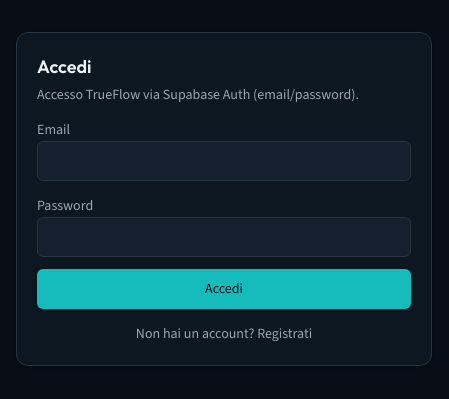
Test: AuthPage › Login invalido: messaggio errore visibile
Type "test@example.com" into the field labelled "Email" at (224,161), box top-left (37, 141), bottom-right (411, 181)
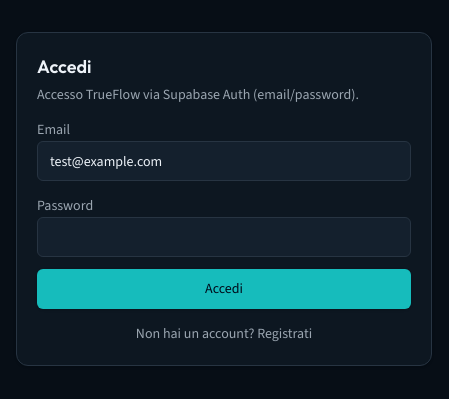
Type "wrong" into the password field labelled "Password" at (224,237), box top-left (37, 217), bottom-right (411, 257)
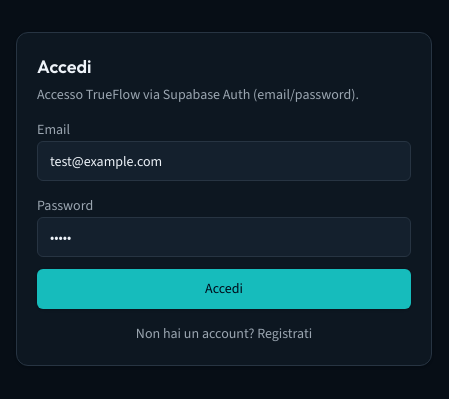
Click the button "Accedi" at (224,289), box top-left (37, 269), bottom-right (411, 309)
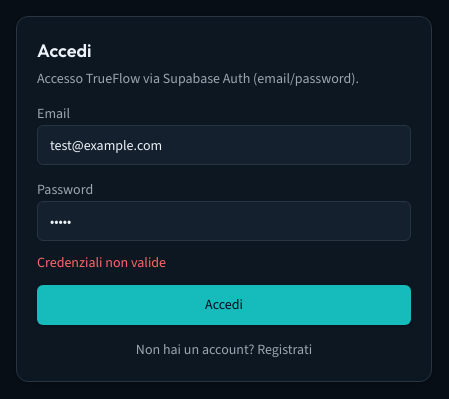
Result: the message reads "Credenziali non valide" at top-left (37, 253), bottom-right (166, 272)
